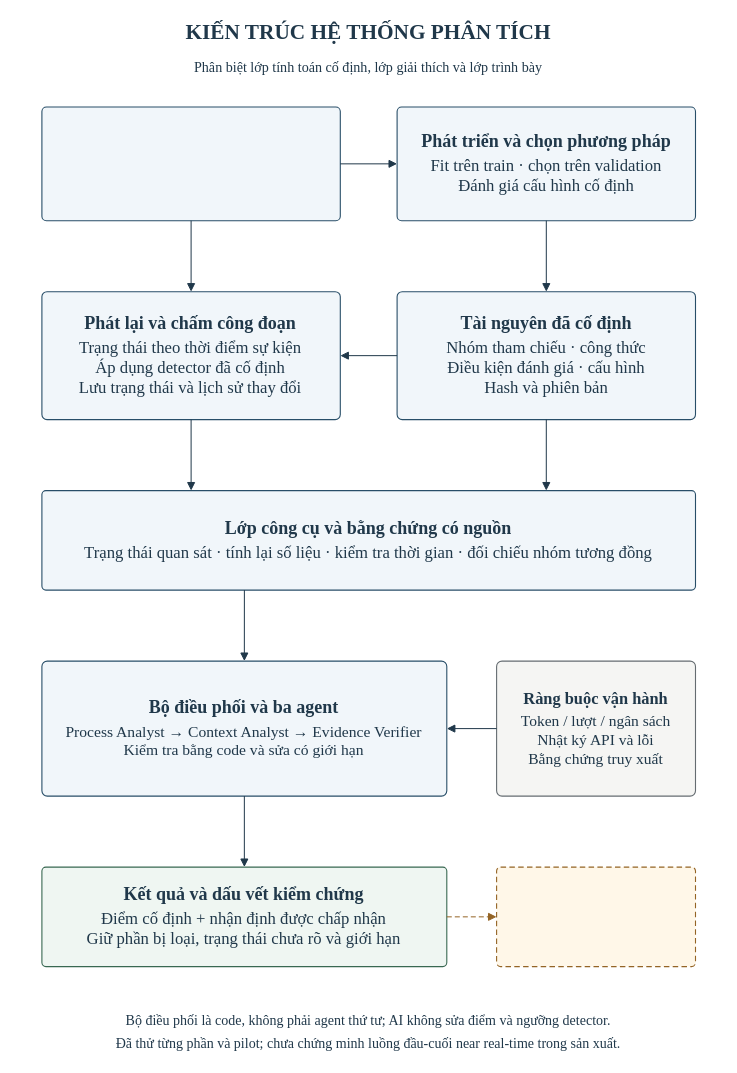
This 737x1073 diagram has some shape labels left out. The centre of each missing label's shape, as x and y in pixels:
BI local — dự kiến Tổng quan → nhóm → đơn → bằng chứng: point 596,916
Dữ liệu chuẩn hóa Bảng nguồn · nhật ký sự kiện Bối cảnh và cờ chất lượng: point 190,163
